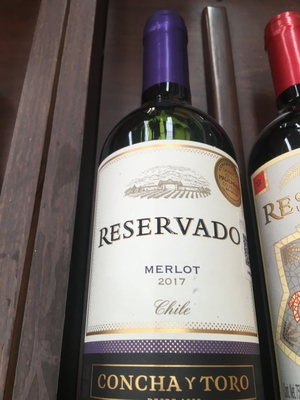reservado merlot: (90, 33, 248, 400)
